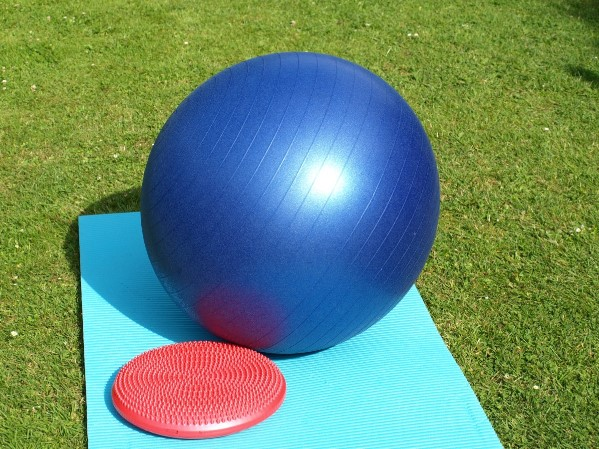blue ball: (140, 51, 440, 356)
